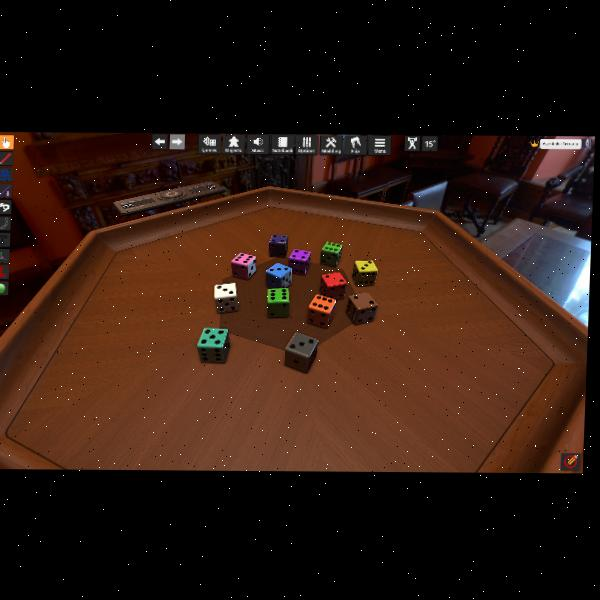d6: (283, 333, 315, 372), (196, 327, 230, 363), (348, 291, 380, 324), (306, 293, 335, 328), (213, 282, 239, 313), (319, 271, 346, 300), (230, 252, 257, 280), (264, 262, 291, 289), (266, 288, 289, 319), (352, 259, 378, 286), (319, 242, 341, 269), (288, 249, 309, 275), (268, 234, 288, 257)
